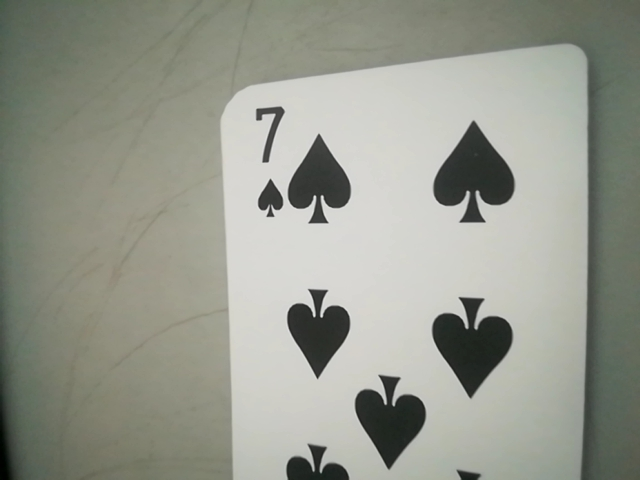ht 7: (237, 98, 294, 229)
